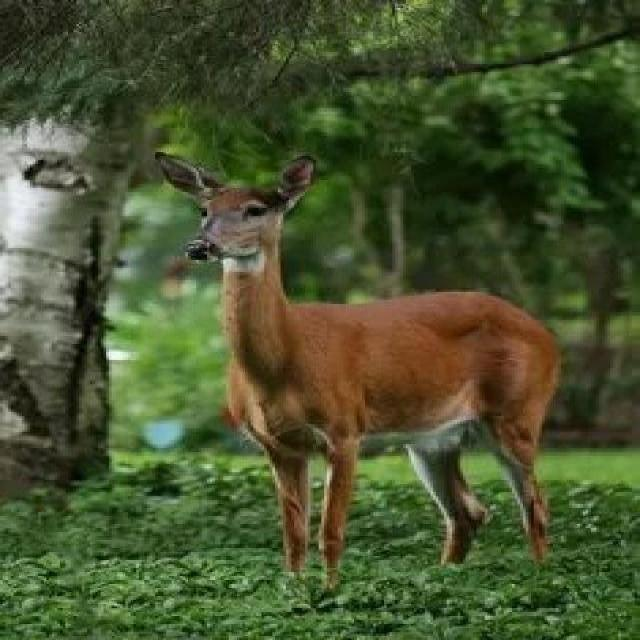deer: (103, 126, 633, 513)
